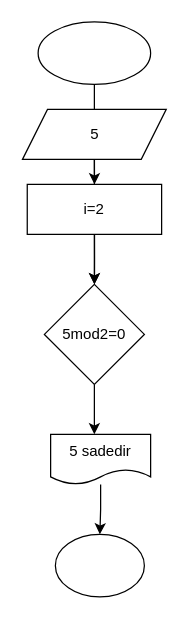
The diagram is 188 pixels wide and 619 high, and some of its shapes have lost their labels. Each missing label, with the centre of its shape:
End: the point at 99,565
Start: the point at 94,52
